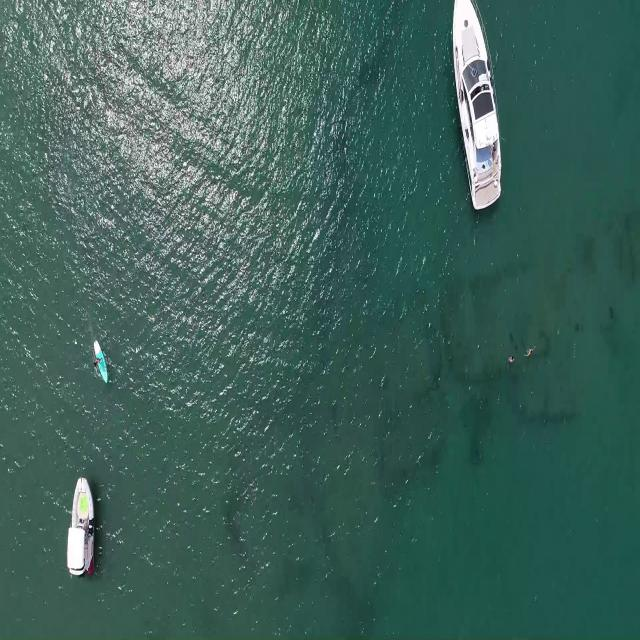boat: (450, 4, 504, 211), (65, 472, 97, 584)
person: (524, 345, 538, 359), (91, 354, 103, 368), (508, 356, 516, 366)
surfboard: (93, 338, 109, 389)
